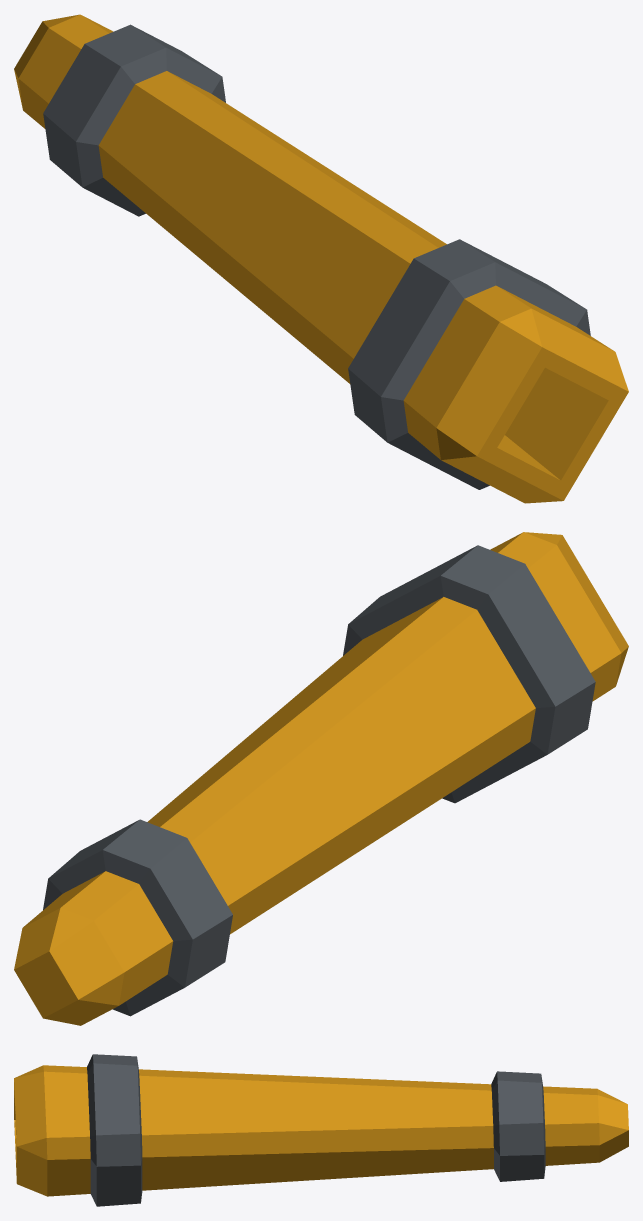
File: Fighter_02_Breather_Yellow.fbx
3 views of the same model, one above another, from view 1: azimuth 30°, elevation 25°; view 2: azimuth 150°, elevation 25°; view 3: azimuth 270°, elevation 25° (orthographic). The views are drawn at different scales.
Visible parts, largest first — view 1: Fighter_02_Breather_Yellow; view 2: Fighter_02_Breather_Yellow; view 3: Fighter_02_Breather_Yellow.
Boxes of the visible parts, x1,y1,x2,y2 form: Fighter_02_Breather_Yellow: (14, 14, 628, 503); Fighter_02_Breather_Yellow: (14, 532, 628, 1025); Fighter_02_Breather_Yellow: (14, 1054, 628, 1206).
Bounding box in the file's own units: 32.38 × 32.41 × 130.
Materials: 1 (1 with a texture image).
